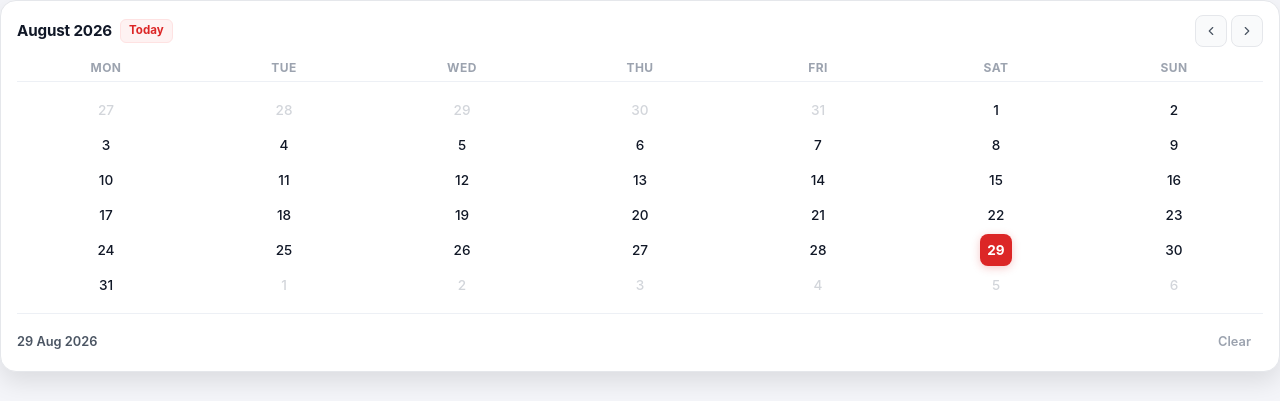
Test: Calendar Component › navigates to previous and next months
Expected: the heading "August 2026" is shown, [17, 22, 112, 40]
Click the button named "Next month" at (1247,31), box [1231, 15, 1263, 47]
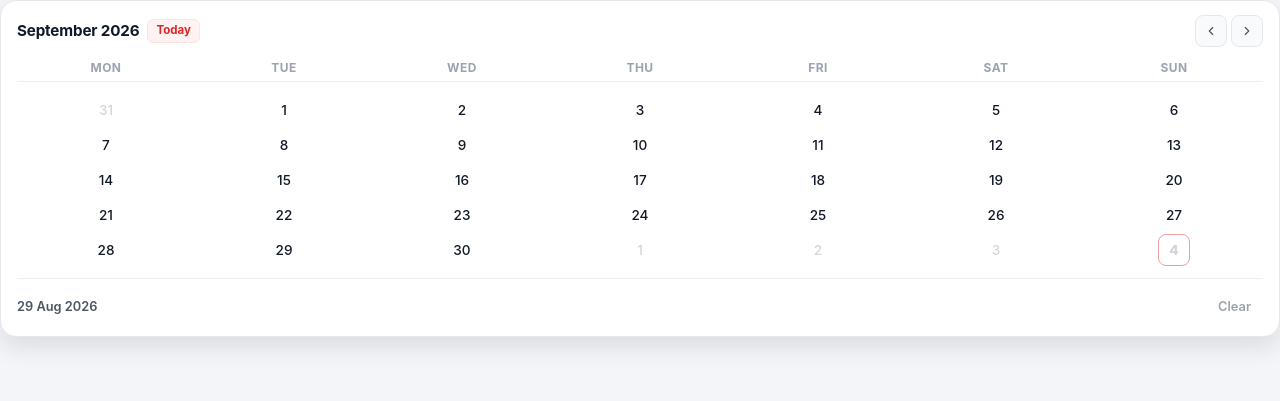
Expected: the heading "September 2026" is shown, [17, 22, 139, 40]
Click the button named "Previous month" at (1211,31), box [1195, 15, 1227, 47]
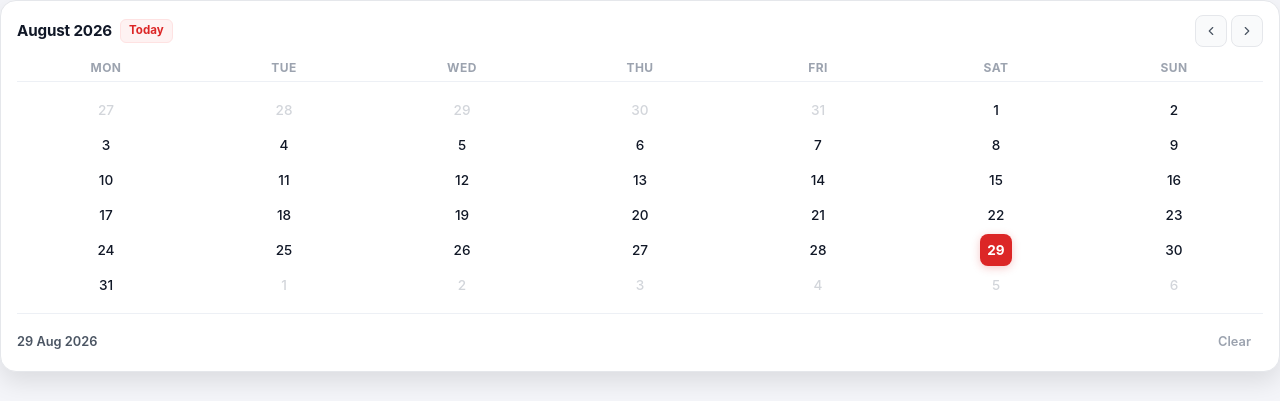
Expected: the heading "August 2026" is shown, [17, 22, 112, 40]
